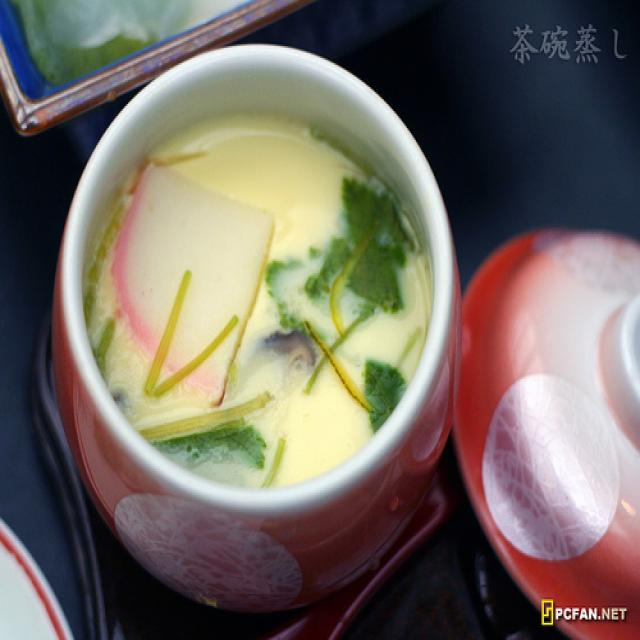鸡蛋料理: (62, 26, 450, 588)
